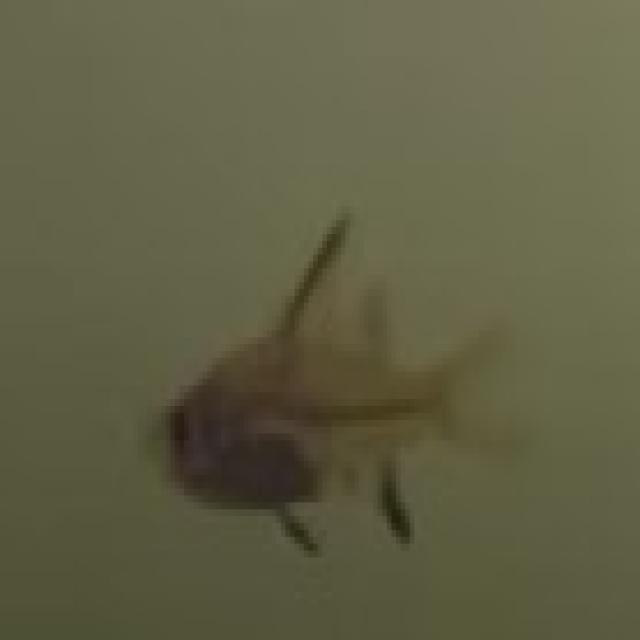Glass-Perchlet: (106, 164, 571, 636)
